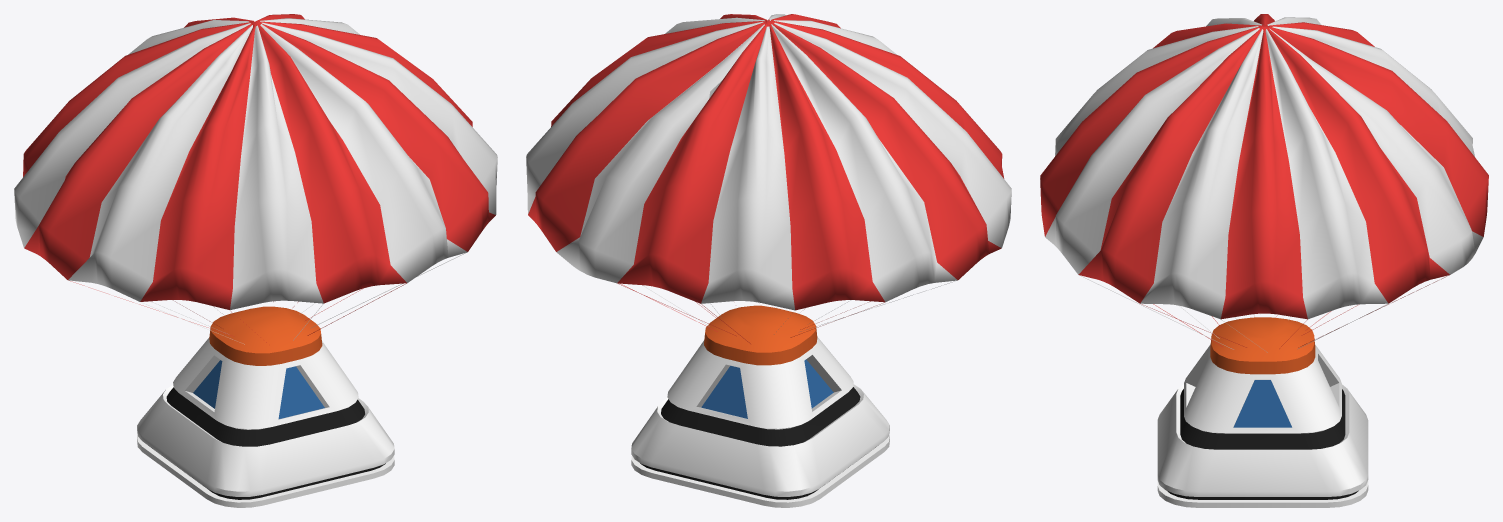
File: space_pod_drop.fbx
3 views of the same model, side by side, from view 1: azimuth 30°, elevation 25°; view 2: azimuth 150°, elevation 25°; view 3: azimuth 270°, elevation 25° (orthographic).
Parts seen in each view (by area): view 1: Circle.001; view 2: Circle.001; view 3: Circle.001.
Boxes of the visible parts, x1,y1,x2,y2 form: Circle.001: (14,14,497,507); Circle.001: (526,14,1011,507); Circle.001: (1040,14,1488,507).
Bounding box in the file's own units: 1357 × 1305 × 1227.
